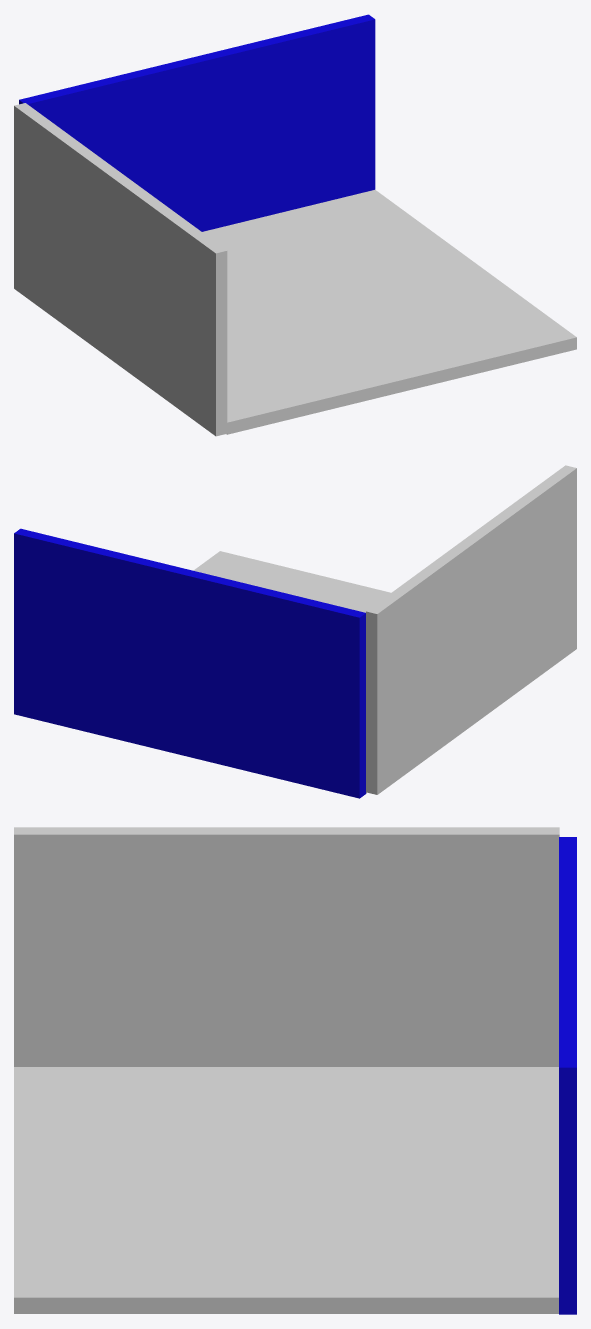
Rendered from cube_roomtst.dae.
3 renders of one model, top to bottom at view 1: azimuth 30°, elevation 25°; view 2: azimuth 150°, elevation 25°; view 3: azimuth 270°, elevation 25°, orthographic. The views are drawn at different scales.
Visible parts, largest first — view 1: Cube.003, Cube.004, Cube.001; view 2: Cube.004, Cube.001, Cube.003; view 3: Cube.003, Cube.001, Cube.004.
Boxes of the visible parts, x1,y1,x2,y2 form: Cube.003: [202, 190, 576, 434]; Cube.004: [19, 14, 375, 231]; Cube.001: [14, 103, 227, 436]; Cube.004: [14, 528, 366, 798]; Cube.001: [366, 465, 576, 794]; Cube.003: [193, 551, 390, 793]; Cube.003: [14, 1067, 558, 1313]; Cube.001: [14, 827, 559, 1066]; Cube.004: [559, 837, 576, 1314].
Size of the model in its own units: 20.65 by 20.64 by 10.09.
